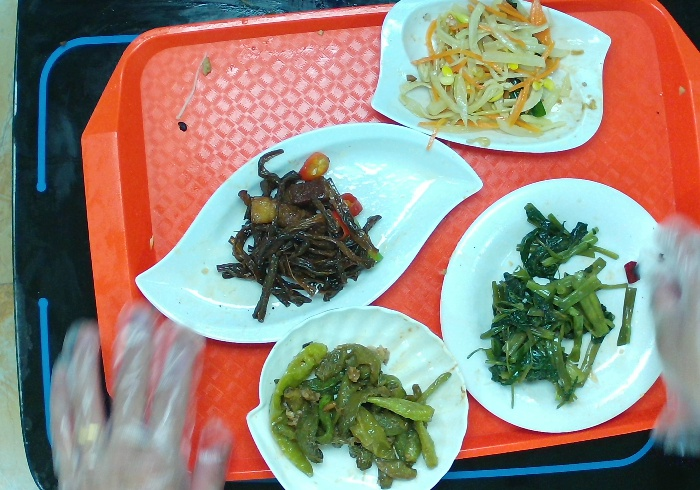RJxy-Bei_Ke_Wan: (242, 307, 471, 490)
RJxy-Jian_Jiao_Fang_Die: (367, 4, 616, 158)
RJxy-Jian_Jiao_Pan: (135, 124, 485, 350)
RJxy-Yuan_Pan: (436, 172, 687, 435)
